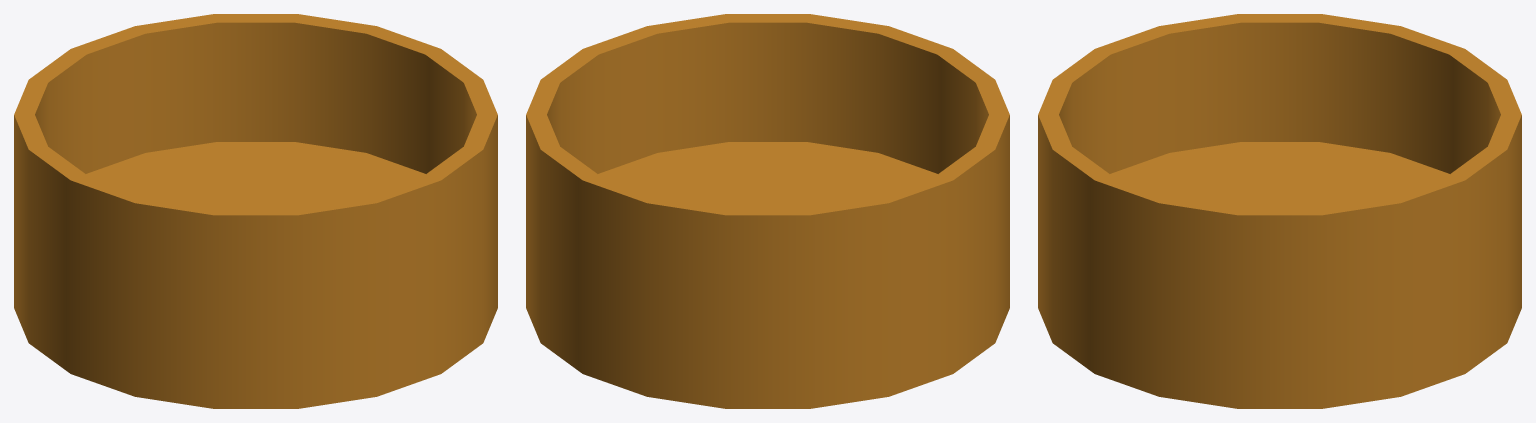
File: luzTecho.FBX
3 renders of one model, left to right at view 1: azimuth 30°, elevation 25°; view 2: azimuth 150°, elevation 25°; view 3: azimuth 270°, elevation 25°, orthographic.
Visible parts, largest first — view 1: luzTecho; view 2: luzTecho; view 3: luzTecho.
Boxes of the visible parts, box(x1,y1,x2,y2) form: luzTecho: box(14, 14, 497, 408); luzTecho: box(526, 14, 1009, 408); luzTecho: box(1038, 14, 1521, 408).
Bounding box in the file's own units: 34.75 × 15.59 × 35.29.
